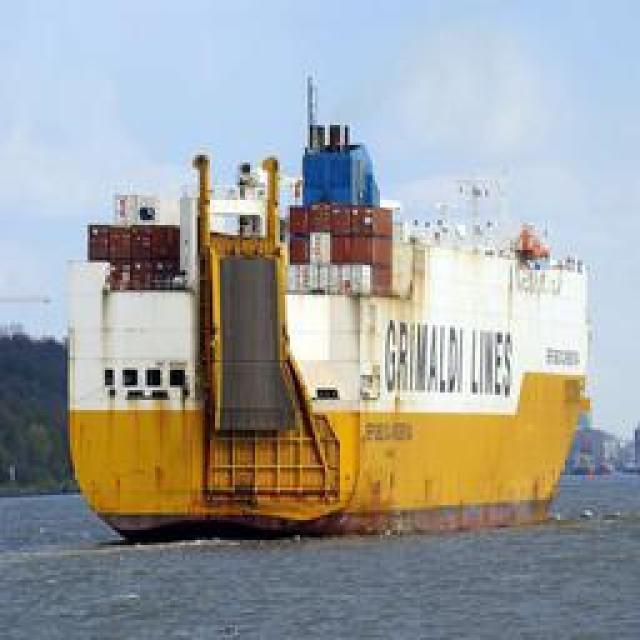ship2: (68, 75, 592, 546)
